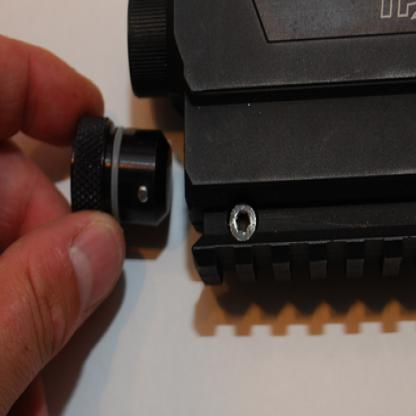gun: (125, 0, 416, 386)
